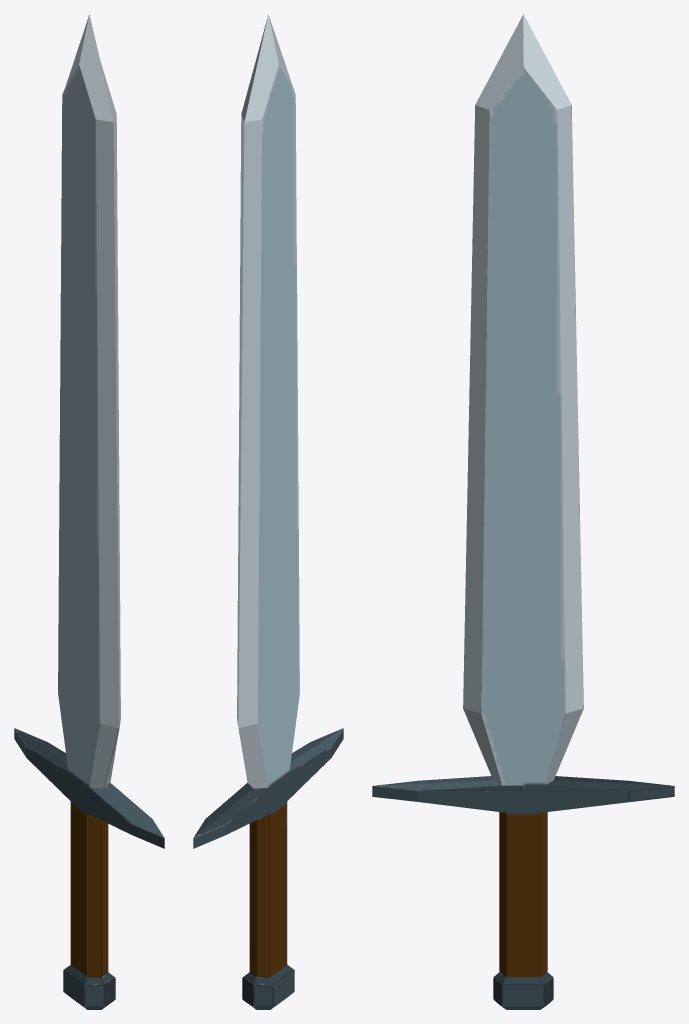
File: Iron Sword.fbx
The picture shows the model from 3 angles, left to right: view 1: azimuth 30°, elevation 25°; view 2: azimuth 150°, elevation 25°; view 3: azimuth 270°, elevation 25°; orthographic projection.
Visible parts, largest first — view 1: mesh; view 2: mesh; view 3: mesh.
Part boxes in pixels (left/top/right/bottom): mesh: left=14, top=14, right=164, bottom=1009; mesh: left=193, top=14, right=343, bottom=1009; mesh: left=372, top=14, right=674, bottom=1009.
Size of the model in its own units: 3.75 by 113 by 31.25.
1 material, 1 textured.
